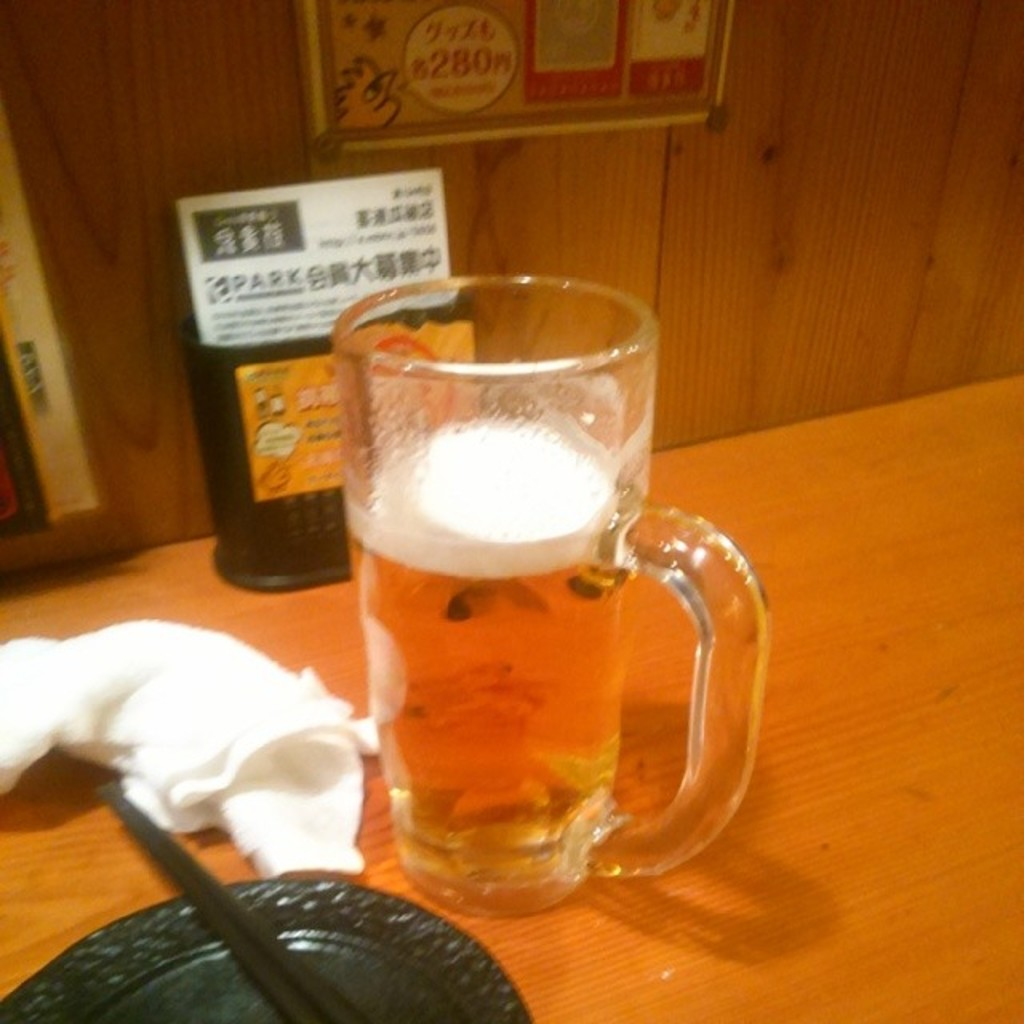Beer: (352, 409, 632, 871)
